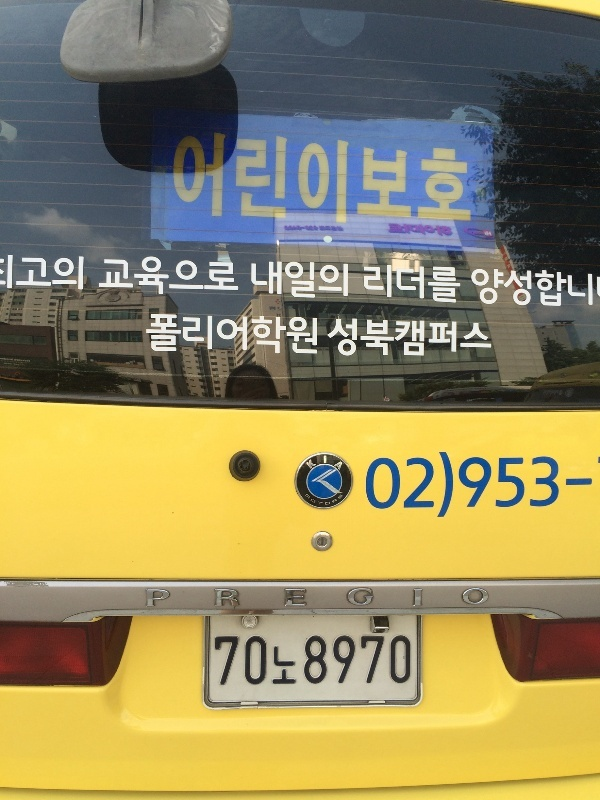text: (177, 130, 192, 221), (193, 130, 208, 221), (209, 130, 224, 221), (225, 130, 240, 221), (241, 130, 256, 221), (257, 130, 272, 221), (273, 130, 288, 221), (289, 130, 304, 221), (305, 130, 320, 221), (321, 130, 336, 221), (337, 130, 352, 221), (353, 130, 368, 221), (369, 130, 384, 221), (385, 130, 400, 221), (401, 130, 416, 221), (417, 130, 432, 221), (433, 130, 448, 221), (449, 130, 464, 221), (369, 445, 384, 527), (385, 445, 400, 527), (401, 445, 416, 527), (417, 445, 432, 527), (433, 445, 448, 527), (449, 445, 464, 527), (465, 445, 480, 527), (481, 445, 496, 527), (497, 445, 512, 527), (513, 445, 528, 527), (529, 445, 544, 527), (545, 445, 560, 527), (561, 445, 576, 527), (577, 445, 592, 527), (225, 634, 240, 690), (241, 634, 256, 690), (257, 634, 272, 690), (273, 634, 288, 690), (289, 634, 304, 690), (305, 634, 320, 690), (321, 634, 336, 690), (337, 634, 352, 690), (353, 634, 368, 690), (369, 634, 384, 690), (385, 634, 400, 690), (465, 130, 473, 221), (161, 314, 176, 360), (177, 314, 192, 360), (193, 314, 208, 360), (209, 314, 224, 360), (225, 314, 240, 360), (241, 314, 256, 360), (257, 314, 272, 360), (273, 314, 288, 360), (289, 314, 304, 360), (305, 314, 320, 360), (321, 314, 336, 360), (337, 314, 352, 360), (353, 314, 368, 360), (369, 314, 384, 360), (385, 314, 400, 360), (401, 314, 416, 360), (417, 314, 432, 360), (433, 314, 448, 360), (449, 314, 464, 360), (465, 314, 480, 360), (113, 253, 128, 299), (129, 253, 144, 299), (145, 253, 160, 299), (161, 253, 176, 299), (177, 253, 192, 299), (193, 253, 208, 299), (209, 253, 224, 299), (225, 253, 240, 299), (257, 261, 272, 302), (273, 261, 288, 302), (289, 261, 304, 302), (305, 261, 320, 302), (321, 261, 336, 302), (337, 261, 352, 302), (353, 261, 368, 302), (369, 261, 384, 302), (385, 261, 400, 302), (401, 261, 416, 302), (417, 261, 432, 302), (433, 261, 448, 302), (481, 267, 496, 308), (497, 267, 512, 308), (513, 267, 528, 308), (529, 267, 544, 308), (545, 267, 560, 308), (561, 267, 576, 308), (577, 267, 592, 308), (1, 255, 16, 292), (17, 255, 32, 292), (33, 255, 48, 292), (49, 255, 64, 292), (65, 255, 80, 292), (148, 314, 160, 360), (481, 314, 493, 360), (401, 634, 410, 690), (449, 261, 461, 302), (216, 634, 224, 690), (103, 253, 112, 299), (472, 267, 480, 308), (364, 445, 368, 527), (250, 261, 256, 302), (593, 445, 596, 527), (81, 255, 85, 292), (593, 267, 596, 308), (175, 130, 176, 221), (241, 253, 242, 299)
